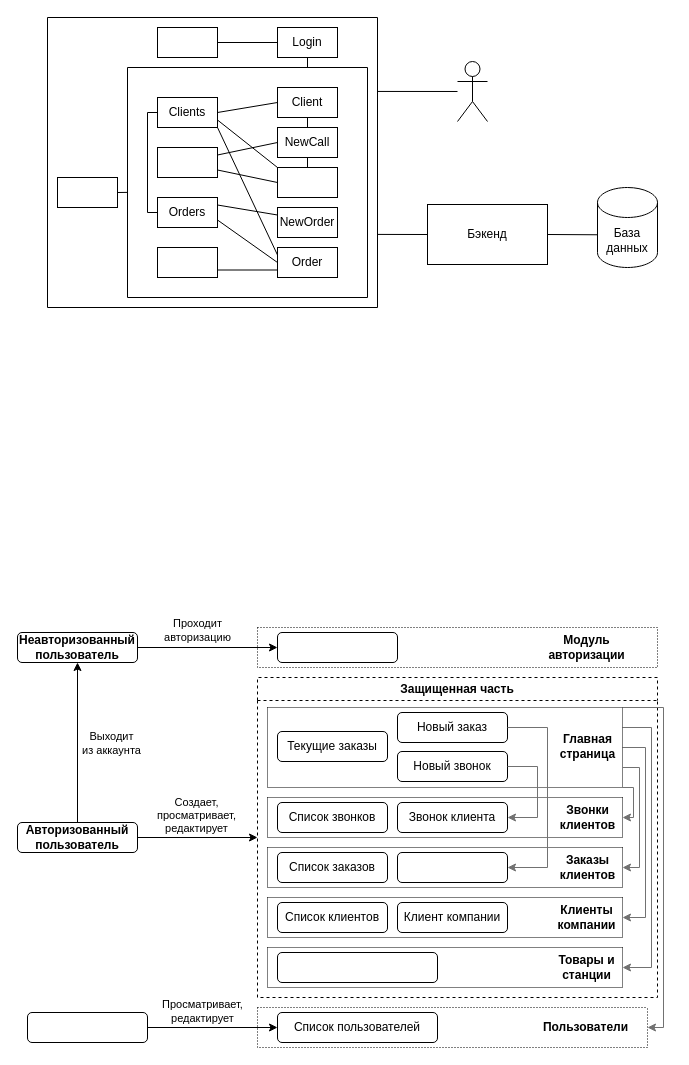
The diagram is 689 pixels wide and 1065 high, and some of its shapes have lost their labels. The shapes that lost their labels are listed below. From the top down, each one's centre as x and y in pixels, then its label:
point 187,42: Users
point 472,91: Пользователь
point 187,162: Calls
point 307,182: Call
point 87,192: Errors
point 187,262: Stocks
point 337,647: Вход в аккаунт
point 452,867: Заказ клиента
point 357,967: Список товаров и станций
point 87,1027: Администратор
